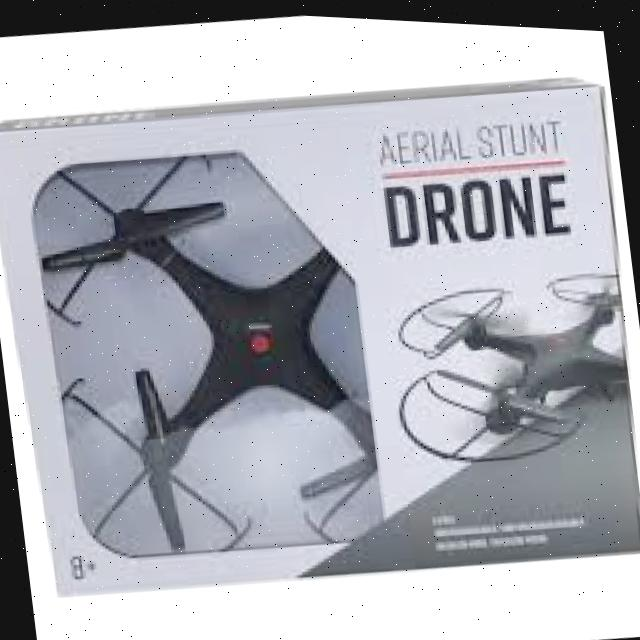drone: (19, 107, 453, 582), (380, 238, 640, 478)
